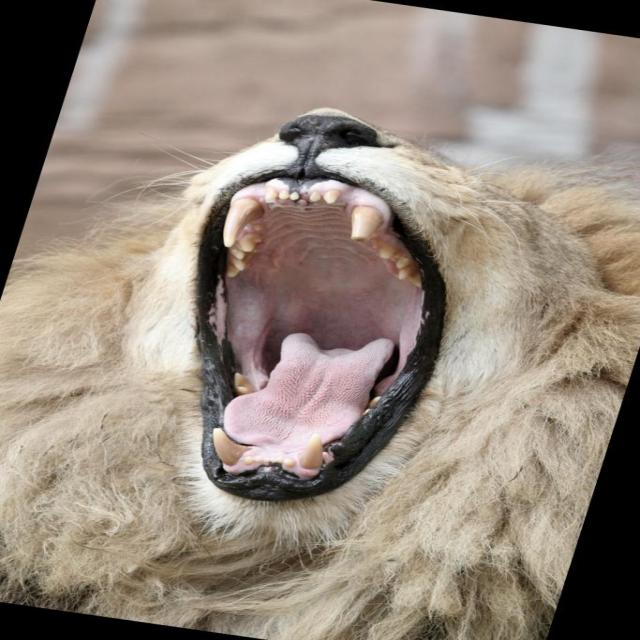Lion: (0, 61, 639, 640)
